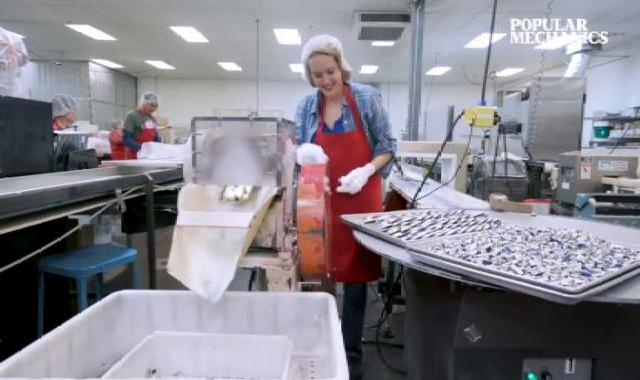hairnet: (297, 35, 353, 91), (49, 92, 86, 121), (132, 91, 160, 109)
